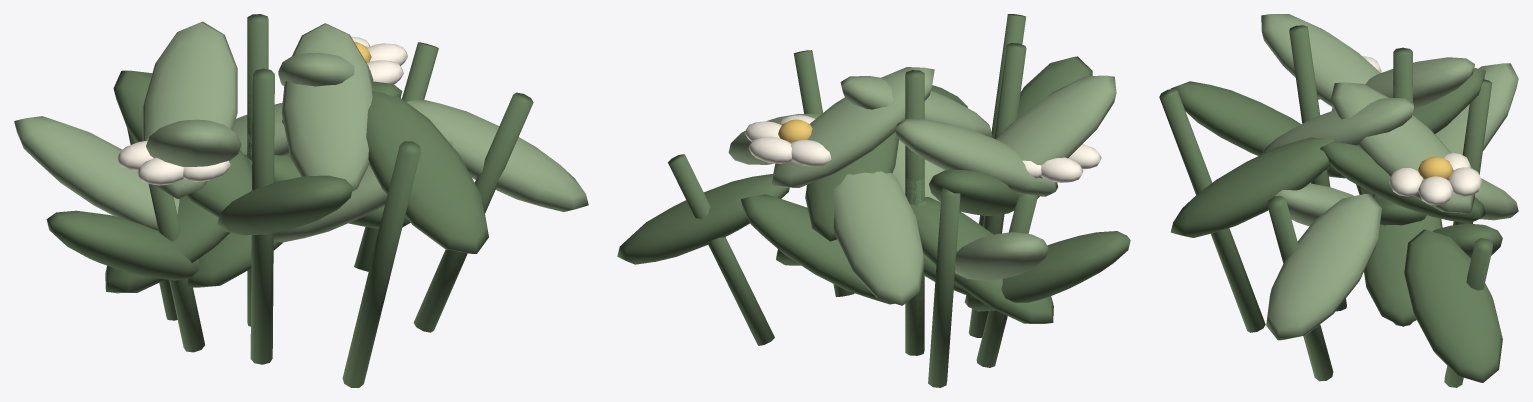
Rendered from planting.glb.
3 views of the same model, side by side, from view 1: azimuth 30°, elevation 25°; view 2: azimuth 150°, elevation 25°; view 3: azimuth 270°, elevation 25° (orthographic). The views are drawn at different scales.
Visible parts, largest first — view 1: planting; view 2: planting; view 3: planting.
Boxes of the visible parts, x1,y1,x2,y2 form: planting: (14,14,588,387); planting: (617,14,1130,387); planting: (1159,14,1518,387).
Bounding box in the file's own units: 0.6303 × 0.3719 × 0.4398.
